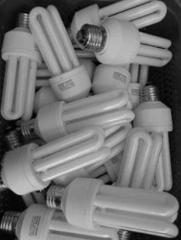lightbulb: (0, 0, 180, 240), (70, 3, 140, 65)
